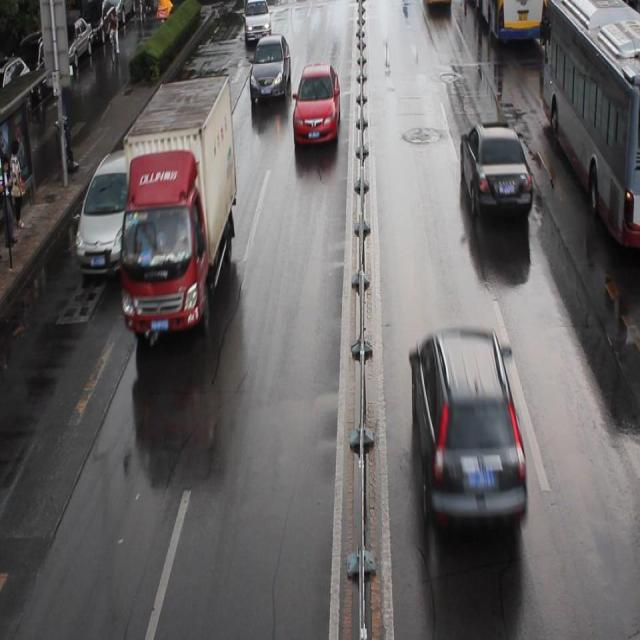bus: (119, 73, 237, 332)
car: (408, 324, 528, 536), (75, 152, 149, 277), (458, 121, 532, 218), (292, 63, 341, 147), (247, 35, 291, 102), (242, 1, 270, 45), (422, 1, 450, 11)
van: (538, 1, 640, 250), (468, 1, 552, 42)
